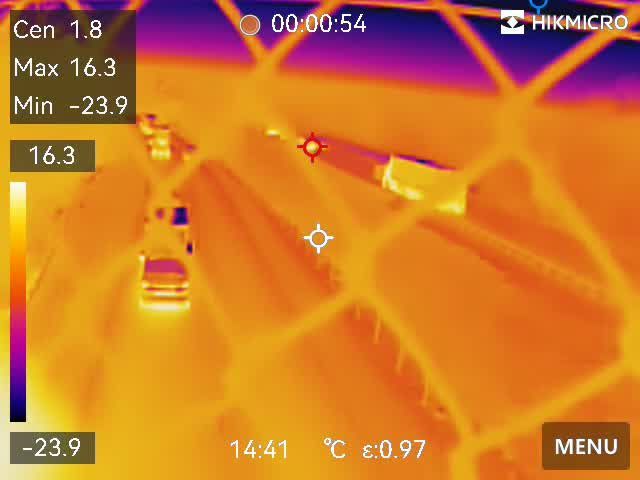heavyTruck: (367, 152, 490, 217), (131, 197, 199, 307)
